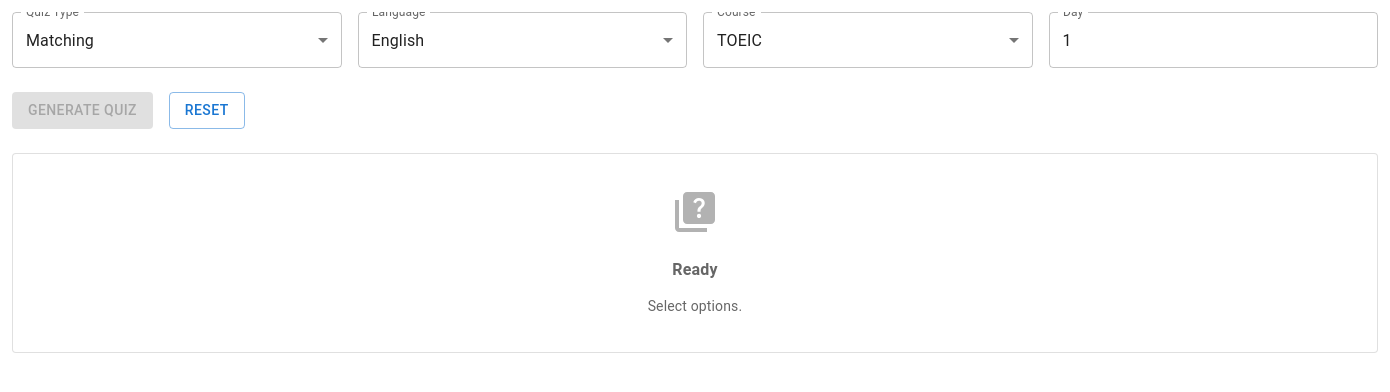
Test: QuizGeneratorForm › shows Words Placement as a quiz type option
Press the mouse on the dropdown labelled "Matching" at (60, 40), box [26, 30, 94, 50]
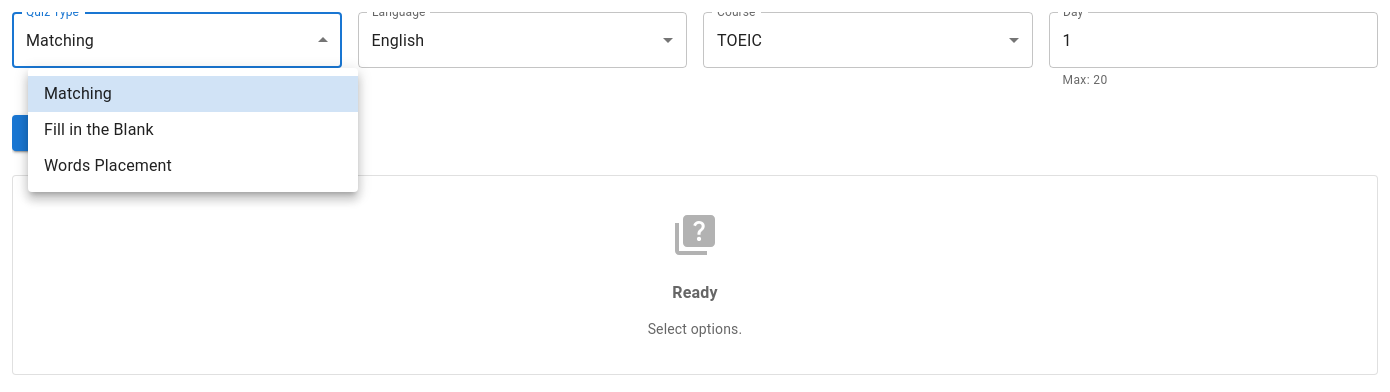
Expected: the text "Words Placement" is shown, [44, 156, 172, 175]
